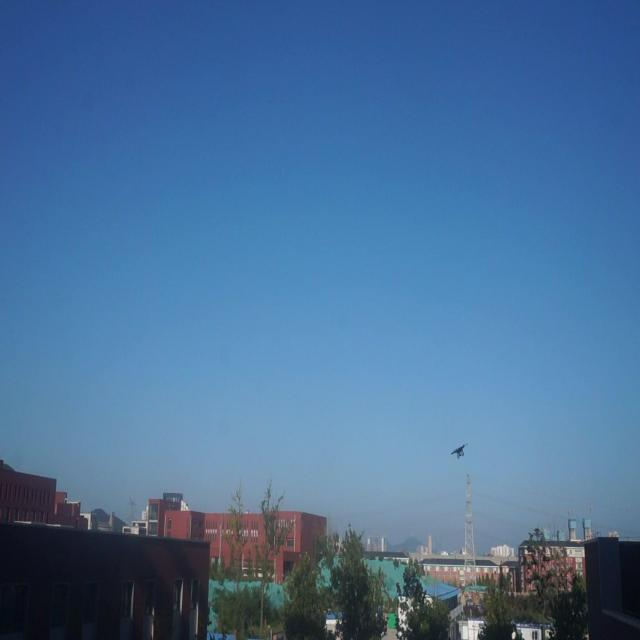UAV: (450, 443, 468, 459)
